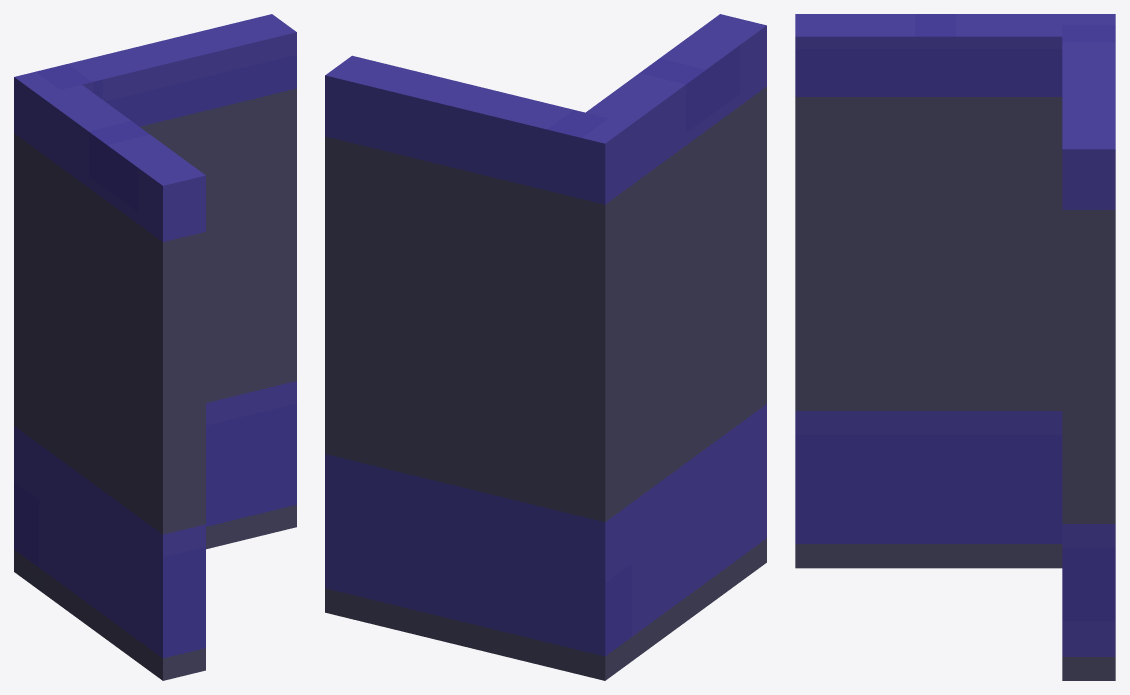
File: corners.gltf
3 renders of one model, left to right at view 1: azimuth 30°, elevation 25°; view 2: azimuth 150°, elevation 25°; view 3: azimuth 270°, elevation 25°, orthographic. The views are drawn at different scales.
Visible parts, largest first — view 1: mesh; view 2: mesh; view 3: mesh.
Part boxes in pixels (bbox=[...]): mesh: bbox=[14, 14, 296, 680]; mesh: bbox=[325, 14, 766, 680]; mesh: bbox=[795, 14, 1115, 680].
Size of the model in its own units: 1.5 by 2.75 by 1.5.
1 material, 1 textured.
